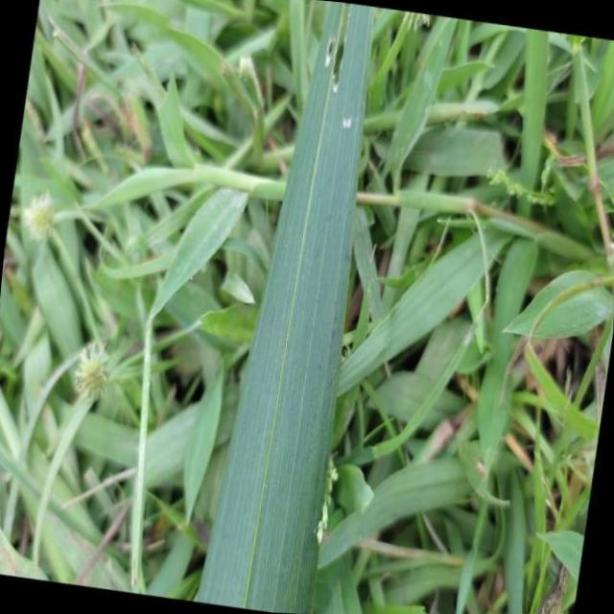Boron: (189, 0, 377, 614)
